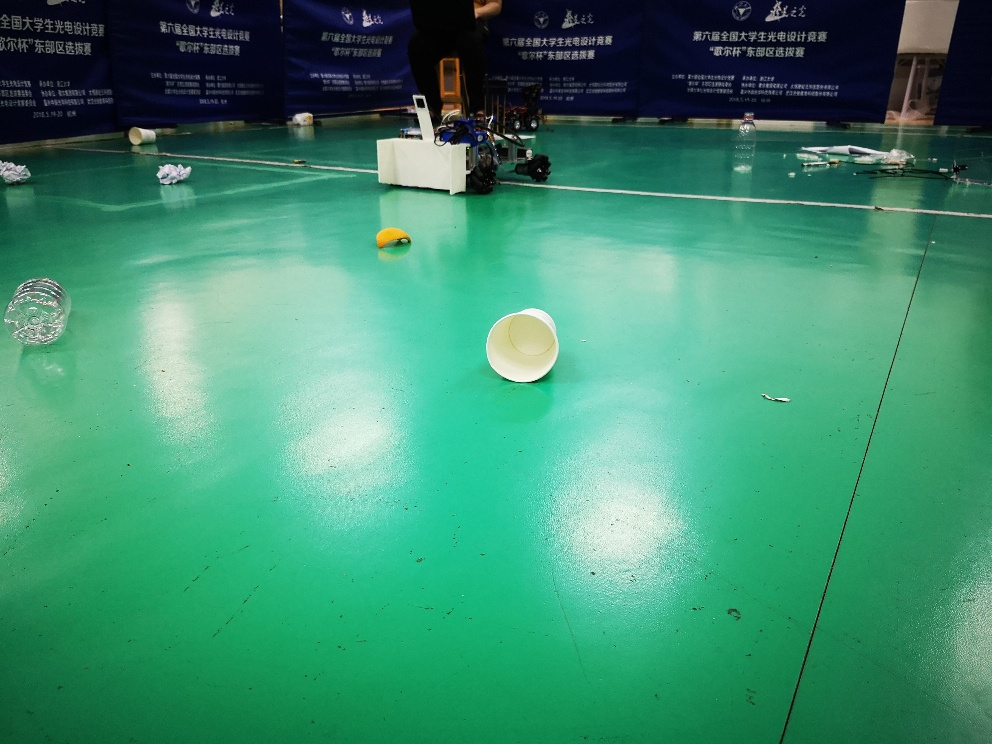bottle: (3, 273, 77, 345), (727, 108, 763, 174)
orangepeel: (372, 223, 416, 254)
papercup: (481, 304, 562, 384), (127, 125, 158, 146)
spitball: (154, 161, 194, 189), (1, 157, 34, 187)
